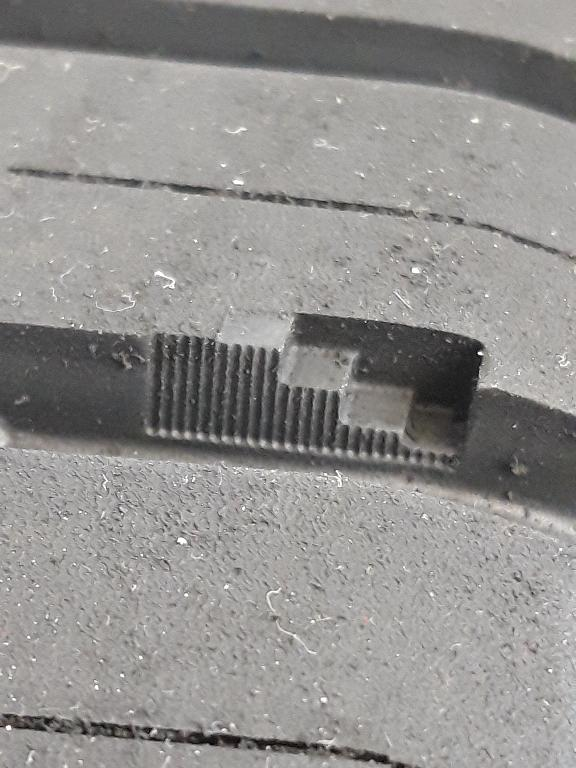temoin:75: (201, 294, 506, 498)
